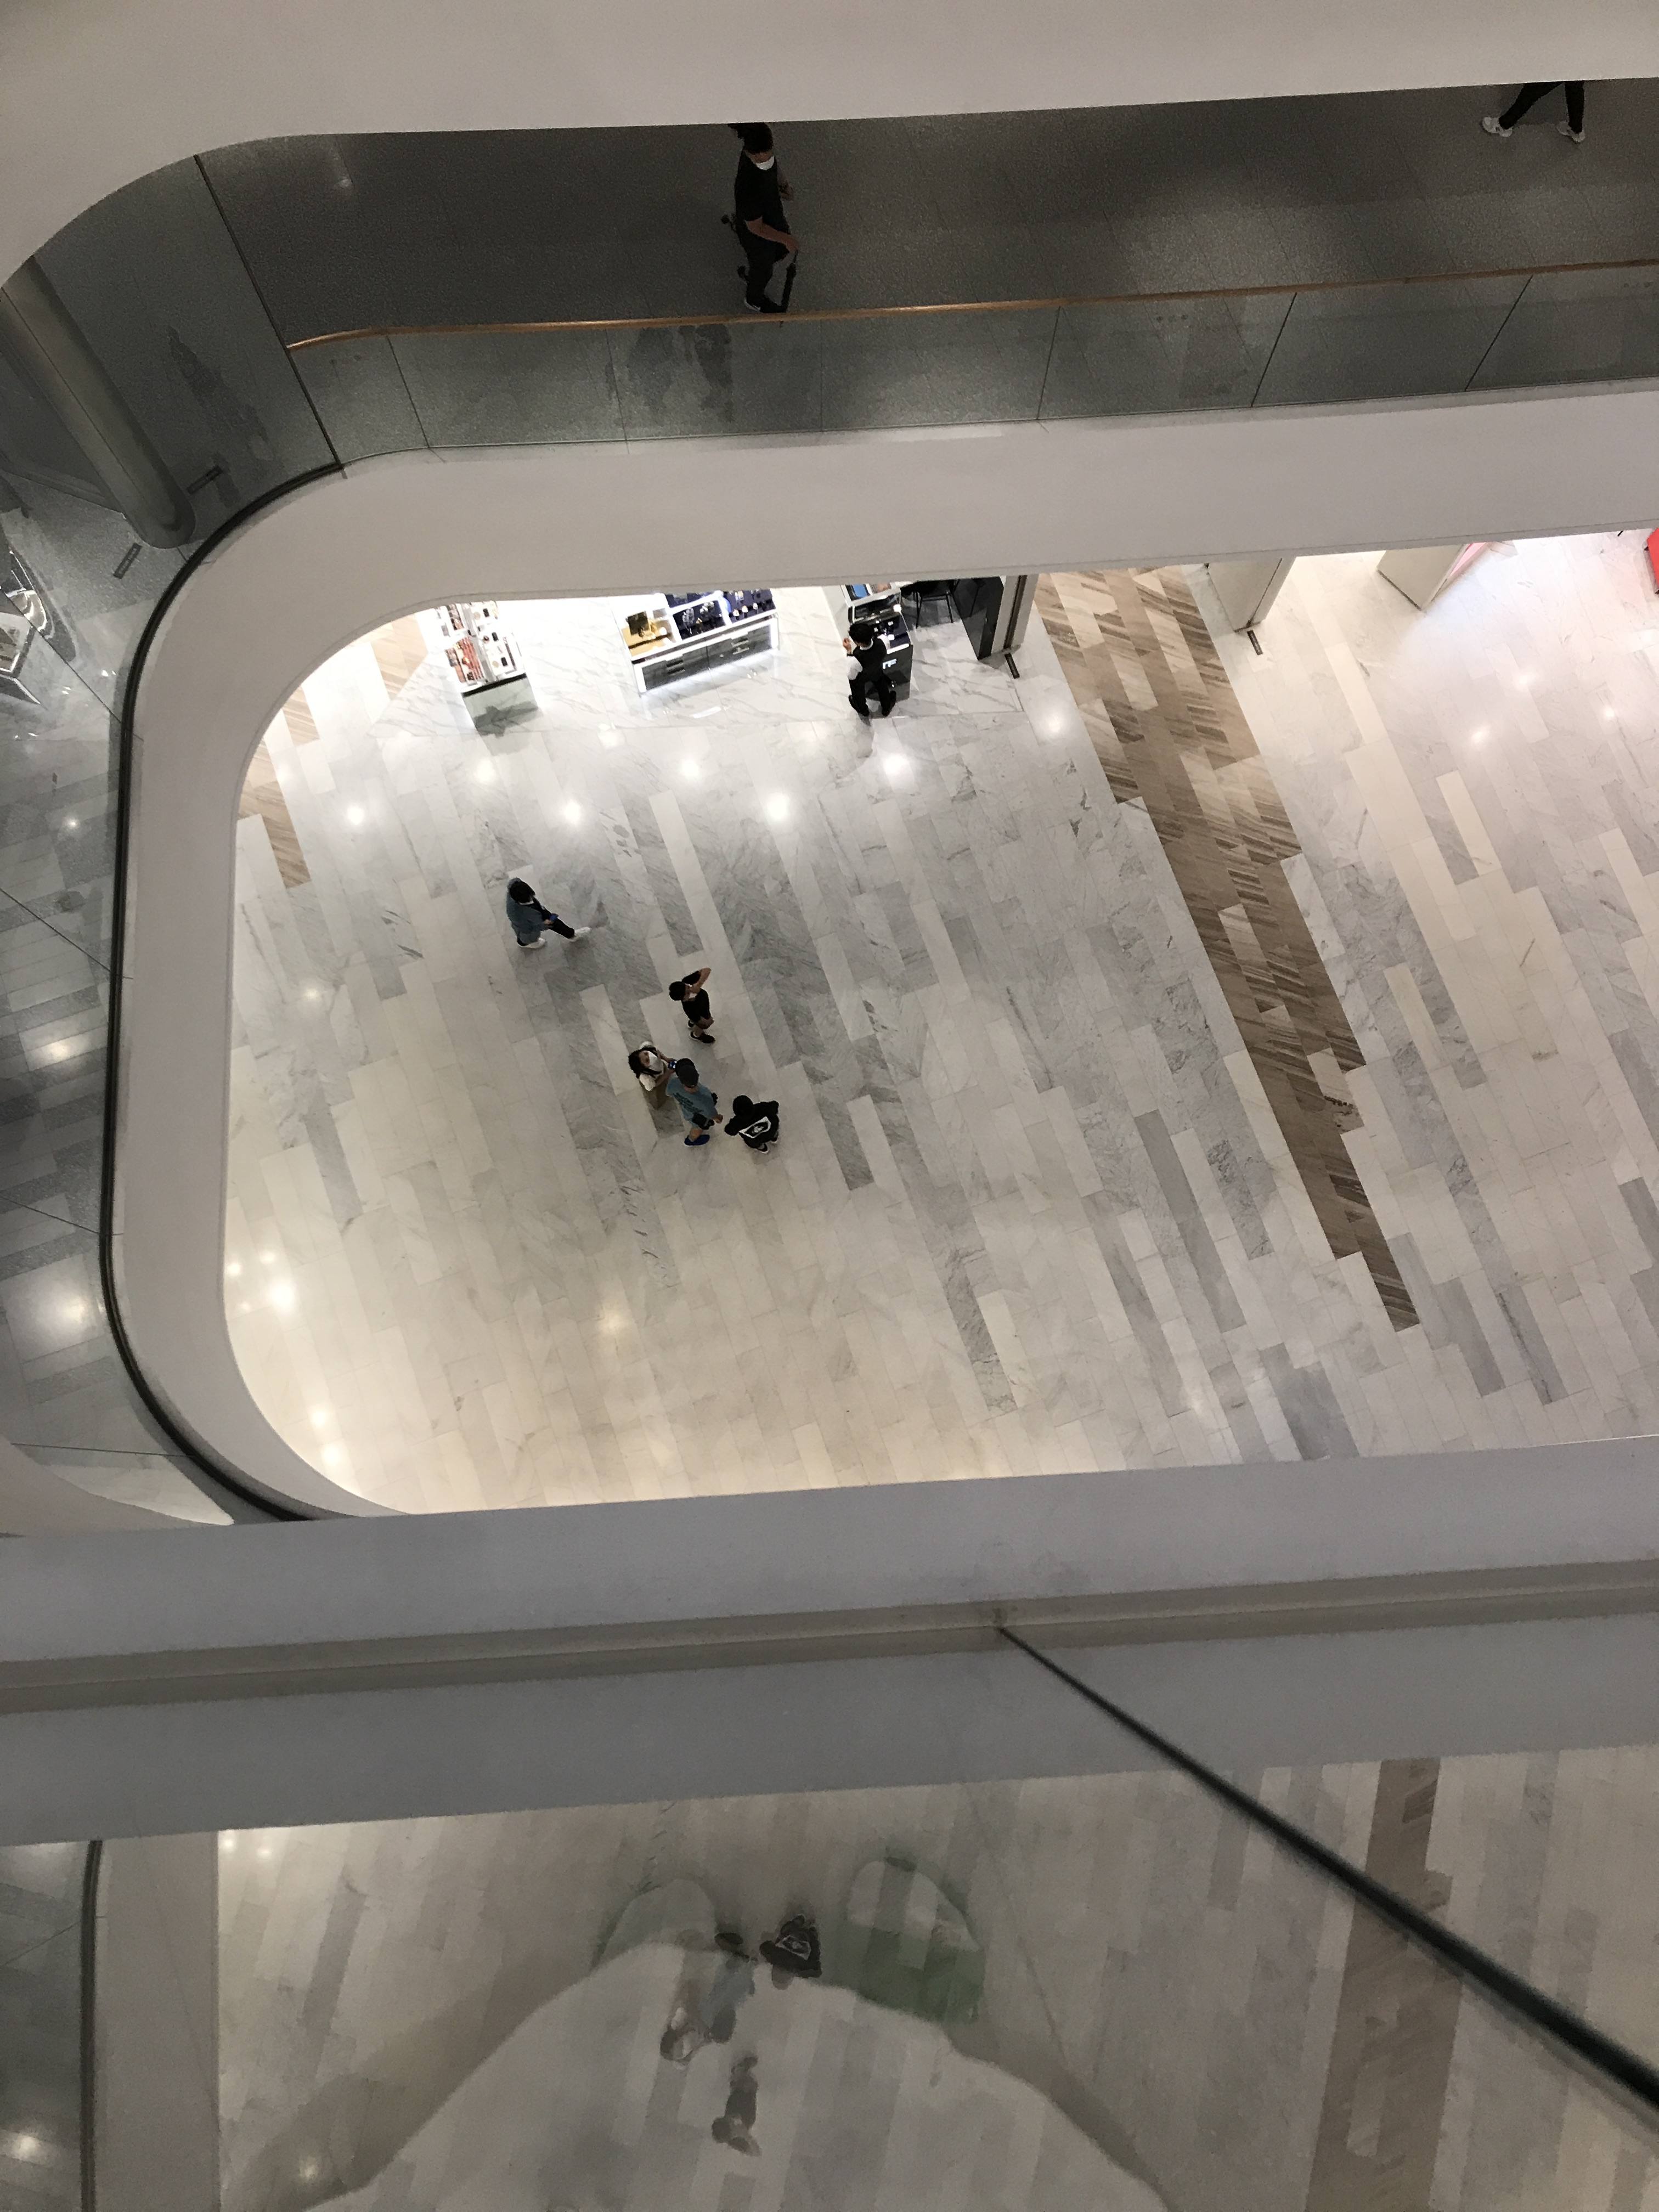person: (727, 123, 802, 317), (499, 876, 592, 956), (842, 621, 901, 721), (665, 1056, 723, 1146), (668, 966, 728, 1048), (724, 1091, 782, 1156), (627, 1039, 677, 1112)
